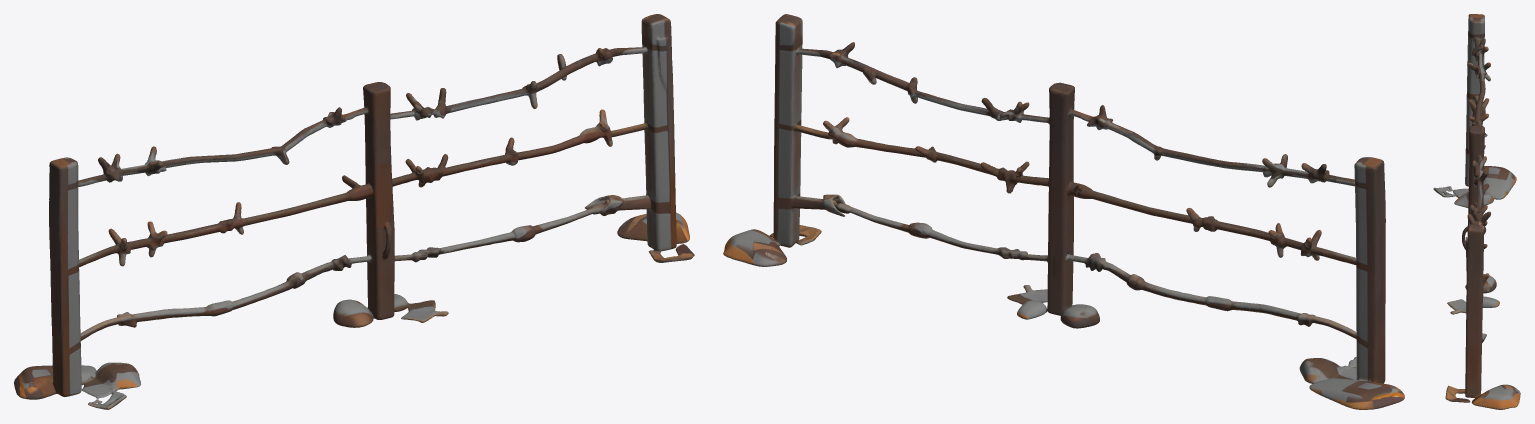
The model's file is Barbed3D.fbx.
3 views of the same model, side by side, from view 1: azimuth 30°, elevation 25°; view 2: azimuth 150°, elevation 25°; view 3: azimuth 270°, elevation 25° (orthographic). The views are drawn at different scales.
Parts seen in each view (by area): view 1: tripo_node_c5fe7c1a; view 2: tripo_node_c5fe7c1a; view 3: tripo_node_c5fe7c1a.
Part boxes in pixels (<box>): tripo_node_c5fe7c1a: <box>14,14,694,409</box>; tripo_node_c5fe7c1a: <box>723,14,1404,409</box>; tripo_node_c5fe7c1a: <box>1433,14,1520,409</box>.
Size of the model in its own units: 1 by 0.3302 by 0.153.
